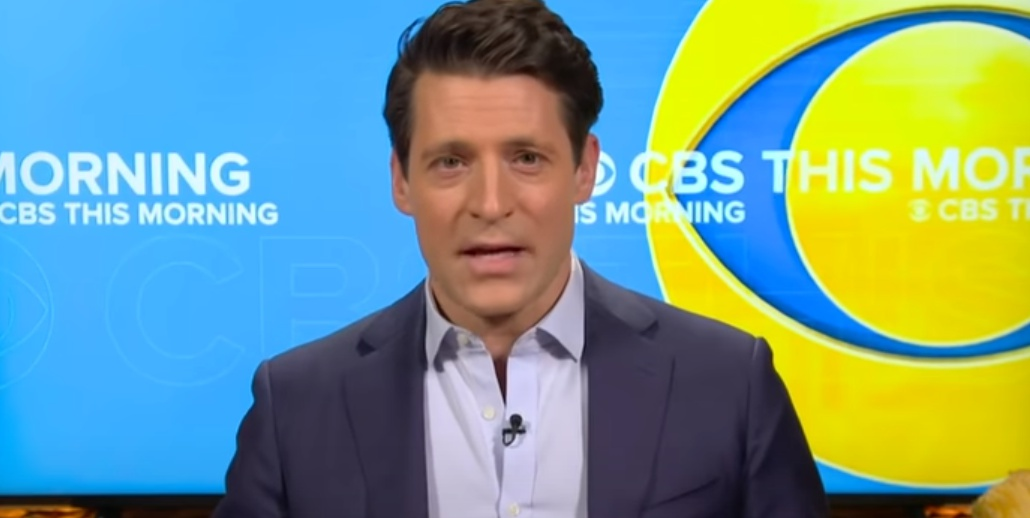mouth: (451, 241, 528, 271)
nose: (464, 200, 516, 223)
